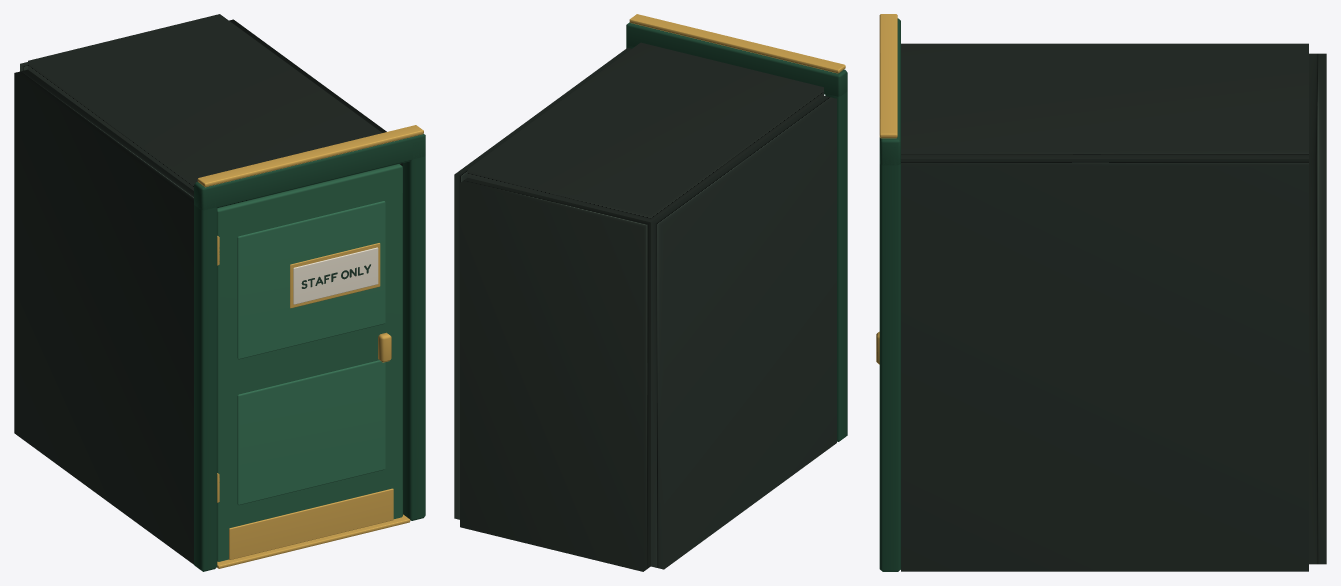
The model's file is lounge_door.glb.
3 renders of one model, left to right at view 1: azimuth 30°, elevation 25°; view 2: azimuth 150°, elevation 25°; view 3: azimuth 270°, elevation 25°, orthographic. The views are drawn at different scales.
Visible parts, largest first — view 1: RevealL, HallCeiling, Leaf, Panel0, Panel1, JambL, JambR, Header, KickPlate, Plaque, HeaderBrass, ThresholdBrass (+2 smaller); view 2: HallBack, RevealL, HallCeiling, Header, JambL, RevealR, HeaderBrass; view 3: RevealR, HallCeiling, HallBack, JambR, HeaderBrass, Header.
Boxes of the visible parts, x1,y1,x2,y2 form: RevealL: (14, 69, 193, 564); HallCeiling: (28, 14, 381, 190); Leaf: (217, 164, 402, 561); Panel0: (237, 360, 385, 505); Panel1: (237, 201, 385, 359); JambL: (194, 191, 217, 571); JambR: (402, 139, 425, 520); Header: (194, 133, 425, 210); KickPlate: (229, 488, 393, 559); Plaque: (293, 247, 378, 304); HeaderBrass: (197, 125, 423, 187); ThresholdBrass: (217, 514, 410, 568); HallBack: (460, 177, 650, 571); RevealL: (651, 95, 836, 569); HallCeiling: (467, 42, 823, 222); Header: (626, 22, 847, 96); JambL: (825, 91, 847, 441); RevealR: (454, 47, 631, 519); HeaderBrass: (629, 14, 845, 73); RevealR: (901, 159, 1308, 571); HallCeiling: (901, 43, 1308, 158); HallBack: (1309, 53, 1326, 564); JambR: (879, 147, 900, 571); HeaderBrass: (879, 14, 897, 138); Header: (879, 18, 900, 165).
Bounding box in the file's own units: 0.9704 × 1.61 × 1.5.
